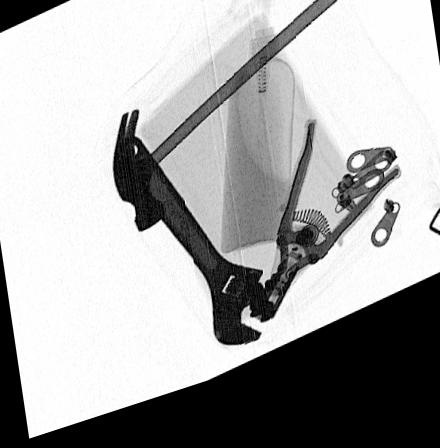Hammer: (112, 9, 339, 240)
Pliers: (250, 138, 401, 343)
Wrench: (121, 145, 272, 361)
